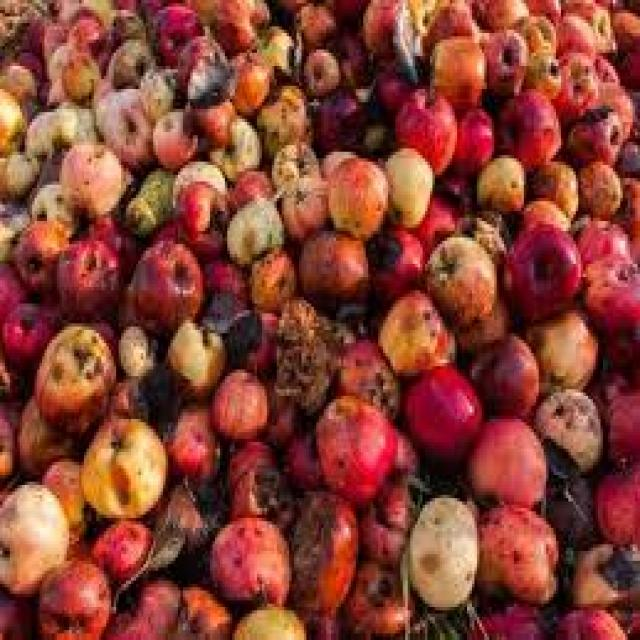organic waste: (30, 320, 119, 432), (286, 485, 356, 620), (314, 389, 393, 502), (79, 416, 163, 518), (403, 488, 474, 604), (0, 475, 69, 594), (477, 501, 556, 604), (462, 409, 544, 505), (398, 363, 477, 462), (502, 218, 578, 320), (208, 511, 289, 604), (462, 326, 536, 416), (376, 290, 454, 373), (583, 251, 638, 366), (571, 538, 637, 633), (422, 231, 492, 320), (272, 294, 328, 402), (153, 389, 220, 478), (35, 558, 111, 636), (339, 554, 410, 637), (129, 234, 200, 317), (532, 386, 600, 472), (524, 307, 595, 389), (220, 432, 287, 515), (54, 228, 121, 310), (329, 333, 395, 416), (156, 478, 218, 564), (91, 86, 151, 172), (586, 359, 638, 458), (393, 82, 452, 168), (79, 512, 153, 578), (57, 138, 121, 214), (296, 221, 366, 290), (14, 393, 72, 475), (114, 518, 180, 590), (496, 86, 558, 162), (326, 152, 383, 234), (539, 458, 593, 544), (163, 314, 222, 392), (222, 188, 280, 267), (7, 214, 67, 290), (272, 389, 319, 485), (452, 264, 507, 346), (109, 574, 180, 637), (358, 0, 422, 69), (356, 478, 408, 561), (363, 224, 420, 294), (427, 30, 482, 102), (2, 297, 57, 369), (561, 99, 620, 165), (76, 208, 138, 270), (173, 178, 225, 251), (42, 458, 89, 538), (524, 152, 576, 224), (383, 145, 430, 224), (593, 459, 638, 541), (210, 366, 262, 436), (465, 597, 551, 637), (178, 26, 225, 99), (413, 188, 467, 251), (146, 3, 200, 63), (314, 86, 363, 152), (257, 86, 309, 148), (173, 580, 230, 636), (225, 307, 279, 366), (59, 306, 119, 359), (573, 214, 625, 274), (183, 82, 230, 148), (124, 158, 173, 221), (578, 73, 630, 132), (420, 0, 482, 49), (200, 254, 247, 317), (482, 23, 524, 92), (212, 115, 260, 175), (208, 0, 270, 46), (474, 152, 522, 211), (230, 600, 306, 637), (228, 46, 270, 112), (279, 168, 321, 234), (450, 106, 494, 168), (560, 0, 615, 49), (328, 20, 371, 82), (146, 109, 193, 165), (250, 241, 292, 303), (270, 135, 322, 185), (576, 162, 622, 218), (608, 3, 637, 89), (454, 204, 506, 250), (170, 155, 225, 198), (551, 604, 623, 636), (101, 373, 151, 419), (328, 294, 381, 336), (391, 419, 420, 495), (49, 96, 96, 142), (116, 320, 156, 373), (0, 145, 40, 198), (62, 3, 104, 53), (106, 33, 148, 82), (138, 59, 176, 112), (257, 19, 294, 72), (521, 43, 561, 92), (0, 580, 35, 636), (516, 191, 568, 228), (230, 162, 269, 211), (376, 60, 415, 106), (0, 56, 35, 106), (62, 52, 101, 96), (469, 0, 524, 30), (30, 182, 69, 224), (22, 102, 57, 148), (554, 10, 590, 53), (292, 0, 328, 43), (616, 171, 638, 241), (0, 82, 22, 152), (432, 168, 477, 201), (302, 46, 334, 92), (514, 13, 553, 50), (358, 115, 393, 152), (7, 40, 37, 82), (0, 261, 20, 323), (102, 6, 138, 40), (0, 396, 15, 472), (322, 145, 354, 178), (0, 346, 20, 396), (304, 610, 338, 637), (610, 136, 638, 168), (590, 53, 618, 82), (524, 0, 563, 20), (144, 218, 176, 241), (15, 16, 42, 43), (47, 40, 69, 72), (42, 20, 69, 43), (44, 69, 64, 99), (328, 0, 353, 16)
